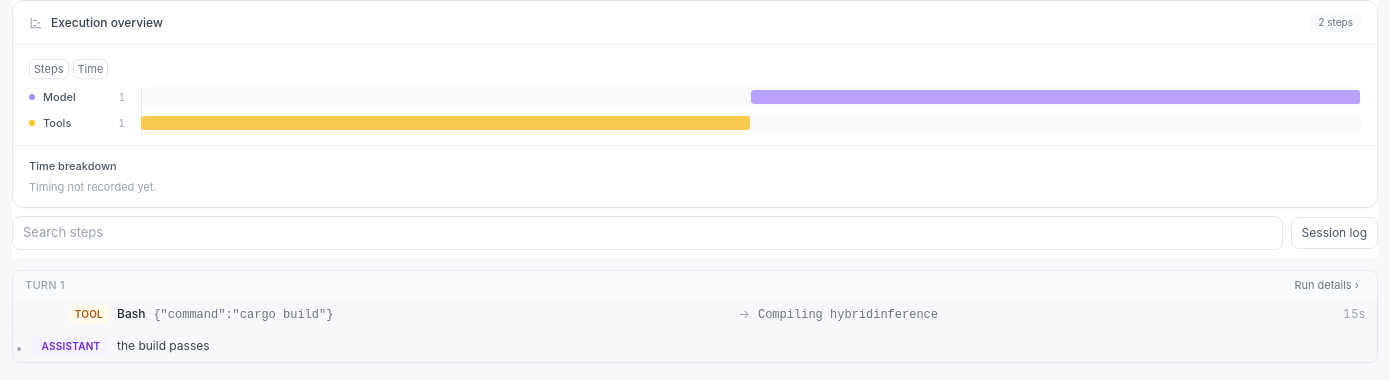
TrajectoryView › filters to the steps a query matches, and says so
Type "cargo" into the search field labelled "Search steps".
click(647, 233); type("cargo")  # box [12,216,1283,250]
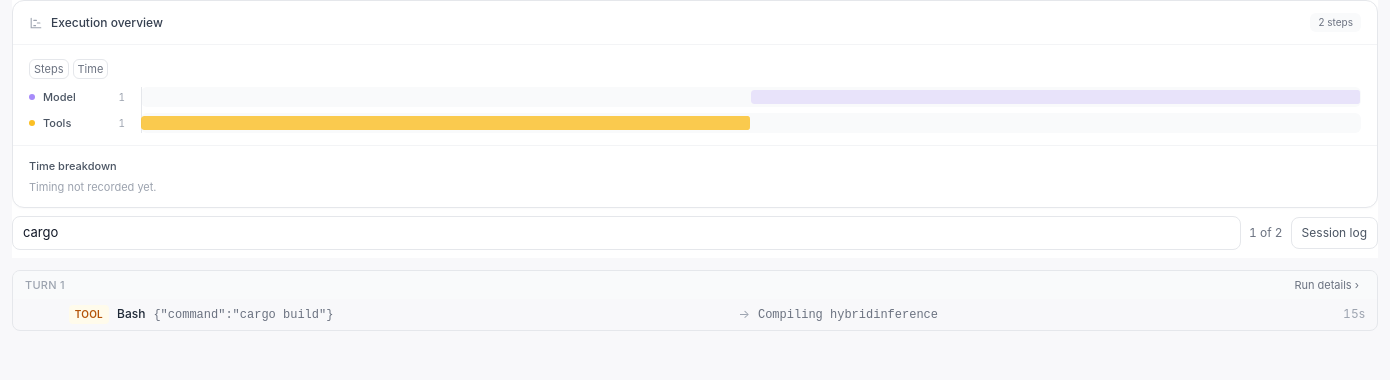
Check: the text "1 of 2" is shown, box [1249,224,1283,242]
Check: the button "the build passes" is gone
